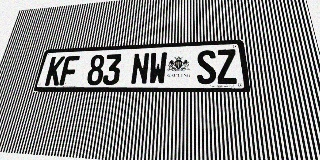3: (102, 54, 122, 85)
8: (86, 54, 106, 85)
F: (59, 56, 80, 85)
K: (44, 56, 65, 86)
N: (130, 53, 150, 85)
S: (197, 50, 217, 84)
W: (148, 52, 167, 85)
Z: (216, 49, 238, 84)
